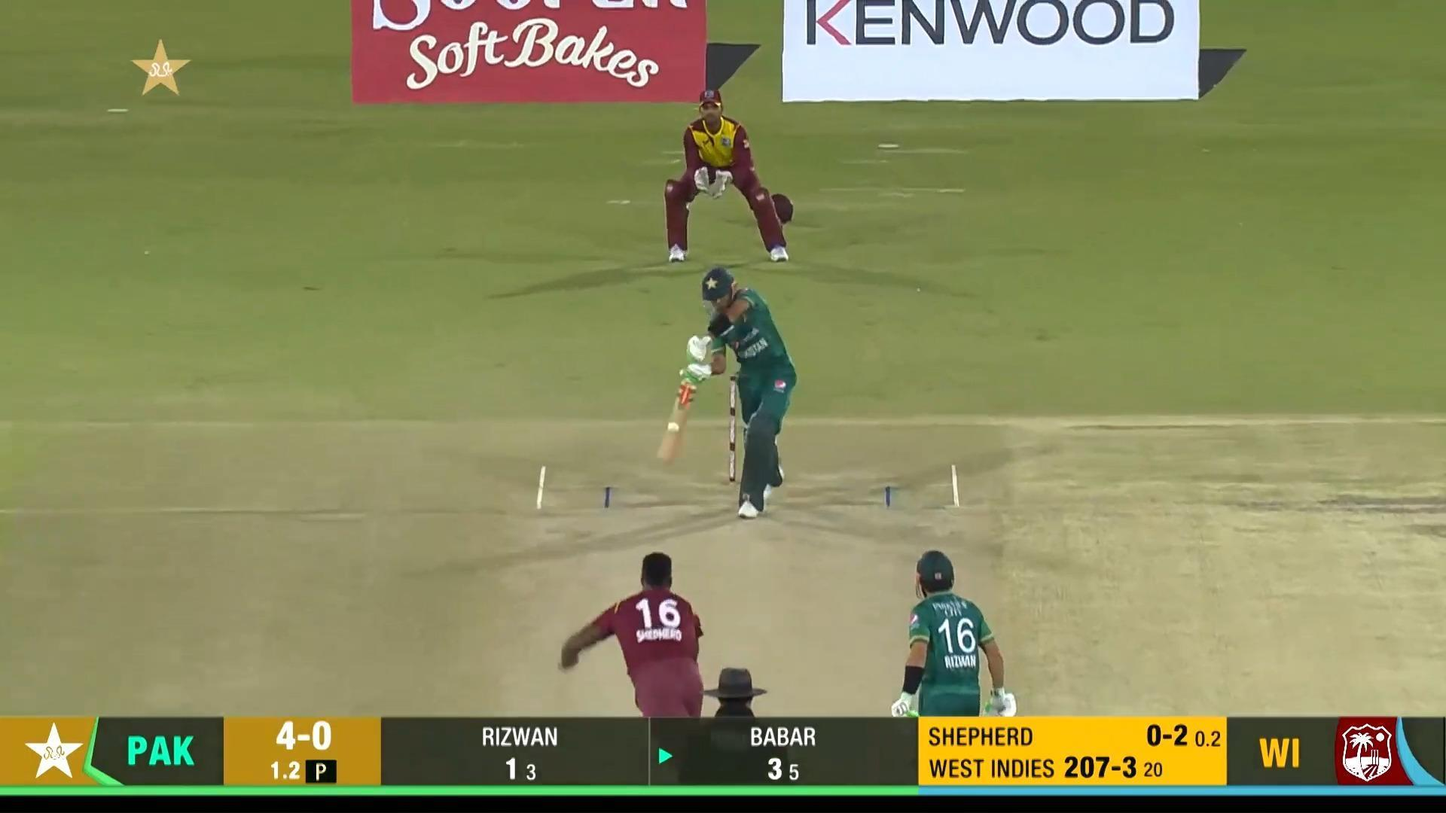BM 1: (650, 266, 798, 521)
BO: (561, 551, 705, 717)
